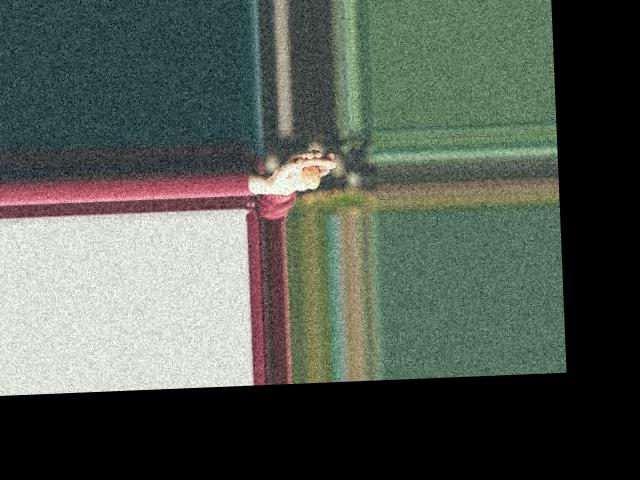egg: (301, 165, 320, 189)
